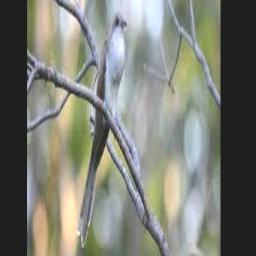Cuckoo: (77, 9, 128, 247)
